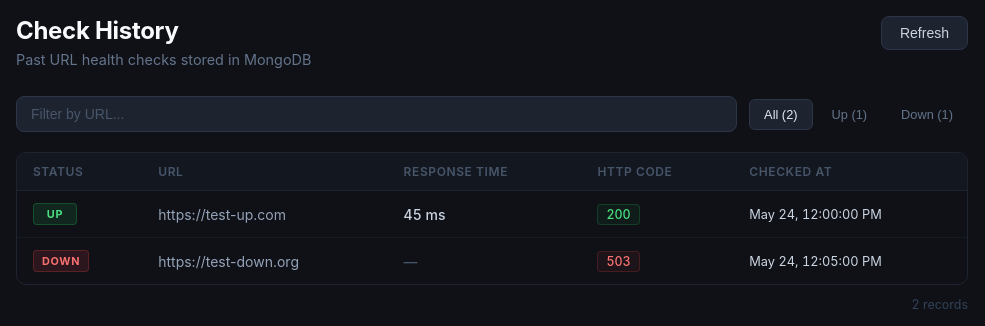
Test: History Page › status tabs filter records correctly
This screenshot has width=985, height=326.
Expected: the link "https://test-up.com" is shown, left=158, top=206, right=286, bottom=222
Click the button "Up (1)". click: (849, 114)
box: left=816, top=98, right=882, bottom=130
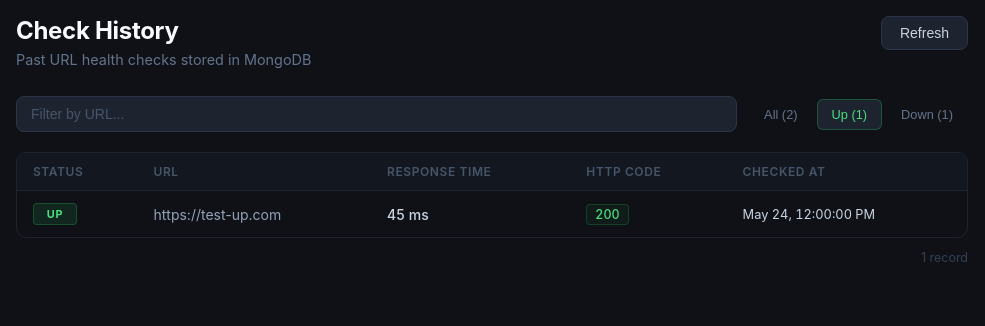
Expected: the link "https://test-up.com" is shown, left=154, top=206, right=281, bottom=222
Expected: the link "https://test-down.org" is gone
Click the button "Down (1)". click: (927, 114)
box: left=886, top=98, right=968, bottom=130
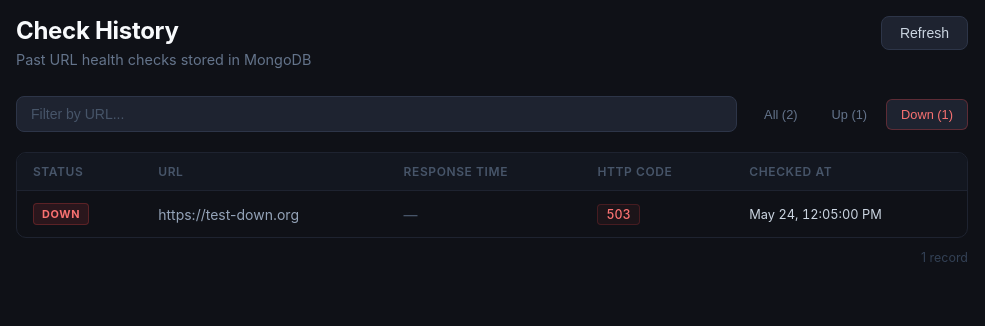
Expected: the link "https://test-up.com" is gone
Expected: the link "https://test-down.org" is shown, left=158, top=206, right=299, bottom=222
